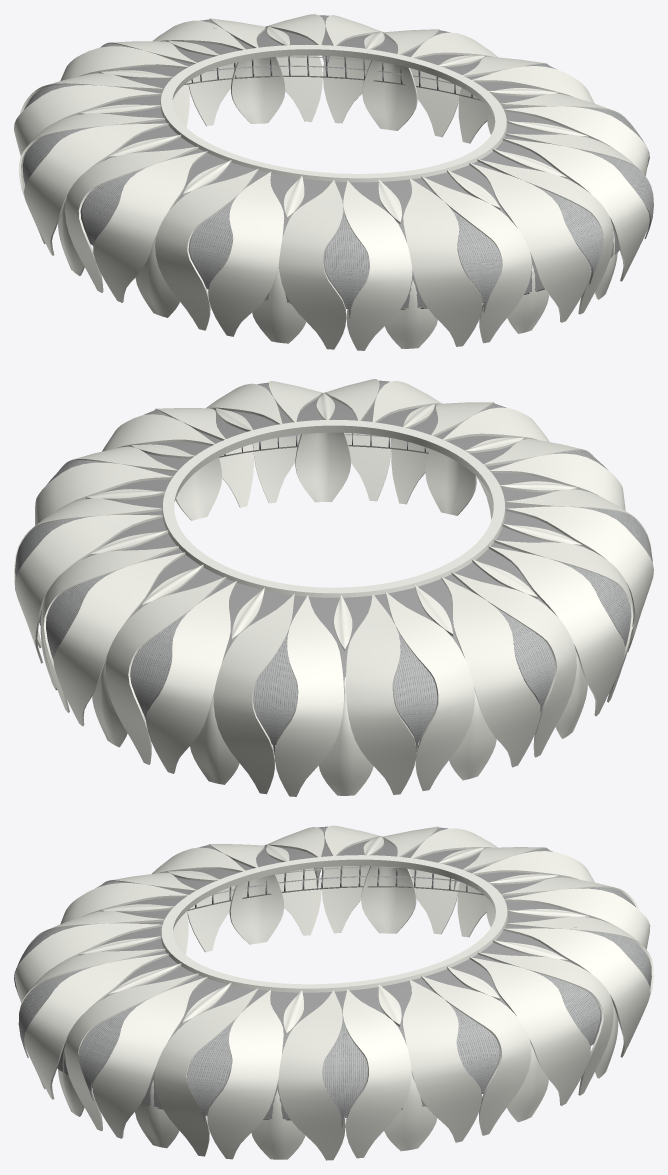
File: dlh_wk.glb
The picture shows the model from 3 angles, top to bottom: view 1: azimuth 30°, elevation 25°; view 2: azimuth 150°, elevation 25°; view 3: azimuth 270°, elevation 25°; orthographic projection. The views are drawn at different scales.
Parts seen in each view (by area): view 1: wk; view 2: wk; view 3: wk.
Part boxes in pixels (left/top/right/bottom): wk: left=14, top=14, right=653, bottom=350; wk: left=14, top=379, right=653, bottom=796; wk: left=14, top=825, right=653, bottom=1160.
Size of the model in its own units: 302 by 71.32 by 331.
Materials: 3 (1 with a texture image).
